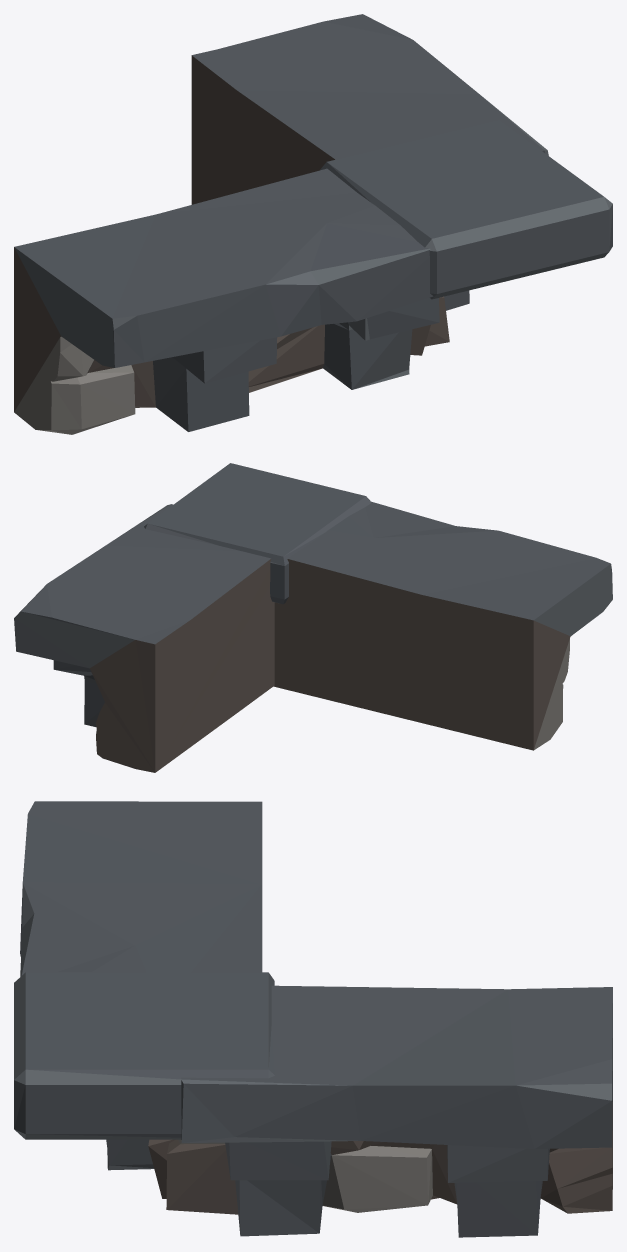
Rendered from MCastle_Masonry_Corbel_02.FBX.
3 views of the same model, one above another, from view 1: azimuth 30°, elevation 25°; view 2: azimuth 150°, elevation 25°; view 3: azimuth 270°, elevation 25° (orthographic). The views are drawn at different scales.
Visible parts, largest first — view 1: MCastle_Masonry_Corbel_02_LOD0; view 2: MCastle_Masonry_Corbel_02_LOD0; view 3: MCastle_Masonry_Corbel_02_LOD0.
Boxes of the visible parts, x1,y1,x2,y2 form: MCastle_Masonry_Corbel_02_LOD0: (14,14,612,434); MCastle_Masonry_Corbel_02_LOD0: (14,463,612,772); MCastle_Masonry_Corbel_02_LOD0: (14,801,612,1237).
Size of what is drawn, in the model's own units: 4.03 by 1.31 by 3.54.
